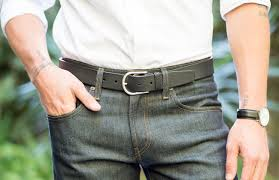F_tie: (54, 52, 226, 102)
